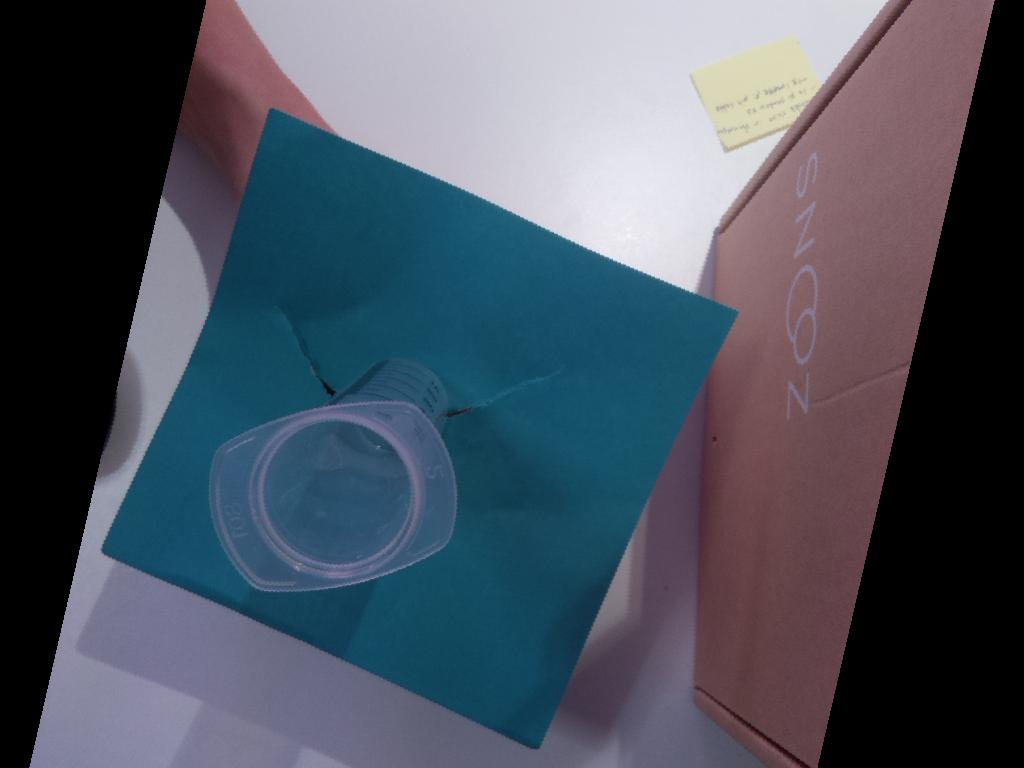clean: (206, 398, 461, 594)
